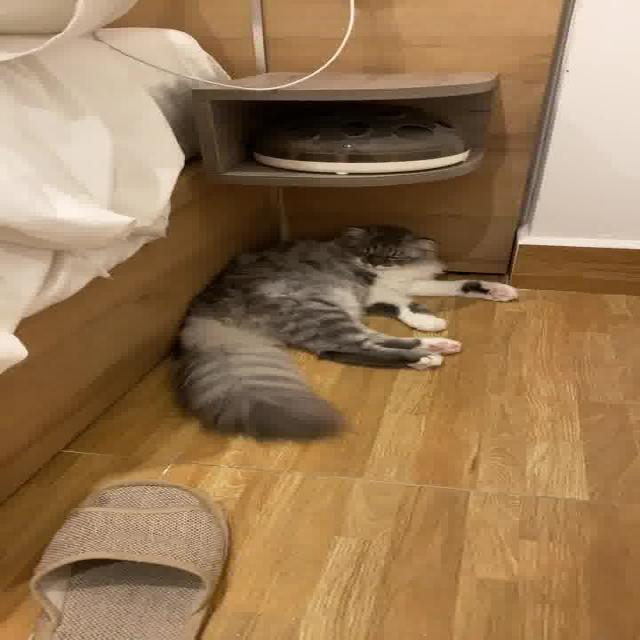cat: (151, 210, 544, 454)
